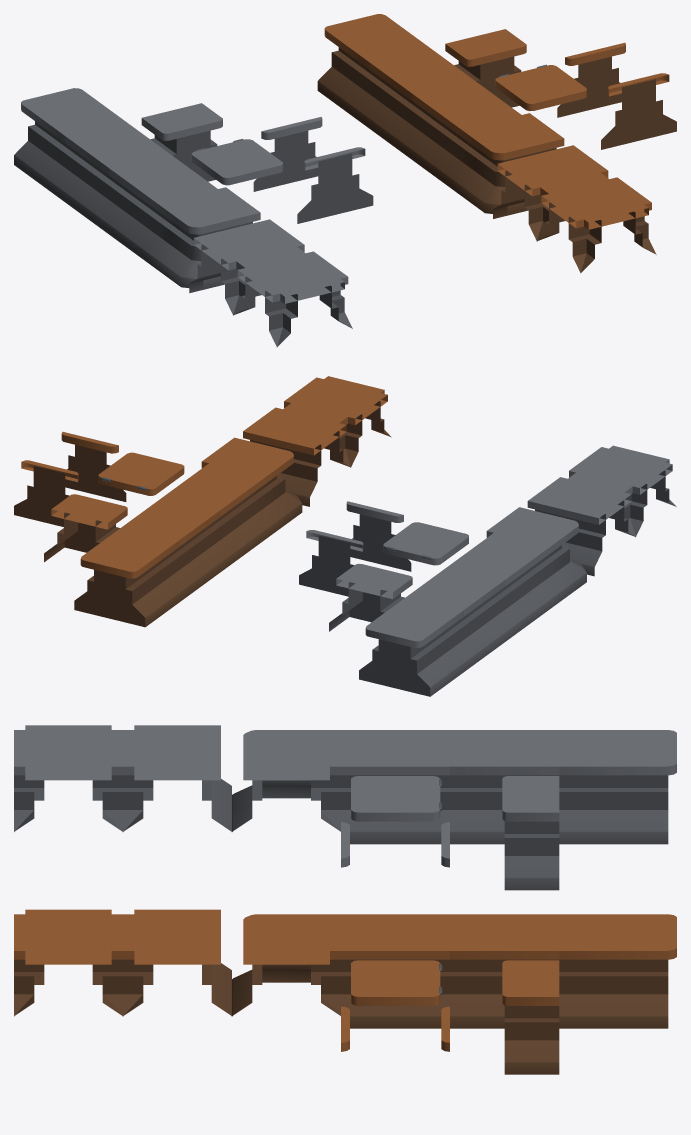
Rendered from Counters.fbx.
3 renders of one model, top to bottom at view 1: azimuth 30°, elevation 25°; view 2: azimuth 150°, elevation 25°; view 3: azimuth 270°, elevation 25°, orthographic. The views are drawn at different scales.
Visible parts, largest first — view 1: CounterWoodL, CounterSteelL, CounterSteelDoorFrame, CounterWoodDoorFrame, CounterWoodO, CounterSteelO, CounterWoodX, CounterSteelX, CounterSteelI, CounterWoodI, CounterWoodU1, CounterSteelU1 (+6 smaller); view 2: CounterWoodO, CounterSteelO, CounterWoodT, CounterSteelT, CounterSteelI, CounterWoodI, CounterSteelU1, CounterWoodU1, CounterSteelDoorFrame, CounterWoodDoorFrame, CounterWoodL, CounterSteelL (+6 smaller); view 3: CounterWoodO, CounterSteelO, CounterSteelU1, CounterWoodU1, CounterWoodX, CounterSteelX, CounterWoodI, CounterSteelI, CounterWoodL, CounterSteelL, CounterWoodT, CounterSteelT (+6 smaller).
Boxes of the visible parts, <box> form: CounterWoodL: <box>449,112,564,215</box>; CounterSteelL: <box>145,186,260,289</box>; CounterSteelDoorFrame: <box>253,116,373,223</box>; CounterWoodDoorFrame: <box>557,42,676,149</box>; CounterWoodO: <box>317,14,430,122</box>; CounterSteelO: <box>14,88,126,196</box>; CounterWoodX: <box>537,176,656,273</box>; CounterSteelX: <box>233,250,352,347</box>; CounterSteelI: <box>101,153,213,260</box>; CounterWoodI: <box>405,79,516,186</box>; CounterWoodU1: <box>361,48,472,154</box>; CounterSteelU1: <box>58,122,169,228</box>; CounterWoodO: <box>74,525,186,627</box>; CounterSteelO: <box>359,594,471,696</box>; CounterWoodT: <box>243,406,350,506</box>; CounterSteelT: <box>527,475,635,576</box>; CounterSteelI: <box>449,536,553,635</box>; CounterWoodI: <box>164,466,268,566</box>; CounterSteelU1: <box>408,566,512,666</box>; CounterWoodU1: <box>123,496,227,596</box>; CounterSteelDoorFrame: <box>299,501,411,596</box>; CounterWoodDoorFrame: <box>14,431,126,526</box>; CounterWoodL: <box>201,437,302,536</box>; CounterSteelL: <box>486,507,586,605</box>; CounterWoodO: <box>550,914,676,1028</box>; CounterSteelO: <box>550,730,676,844</box>; CounterSteelU1: <box>448,730,559,844</box>; CounterWoodU1: <box>449,914,559,1028</box>; CounterWoodX: <box>14,909,122,1016</box>; CounterSteelX: <box>14,725,122,831</box>; CounterWoodI: <box>341,914,449,1028</box>; CounterSteelI: <box>341,730,449,844</box>; CounterWoodL: <box>232,914,340,1016</box>; CounterSteelL: <box>232,730,340,831</box>; CounterWoodT: <box>123,909,231,1016</box>; CounterSteelT: <box>123,725,231,831</box>.
Bounding box in the file's own units: 7 × 0.752 × 6.08.
